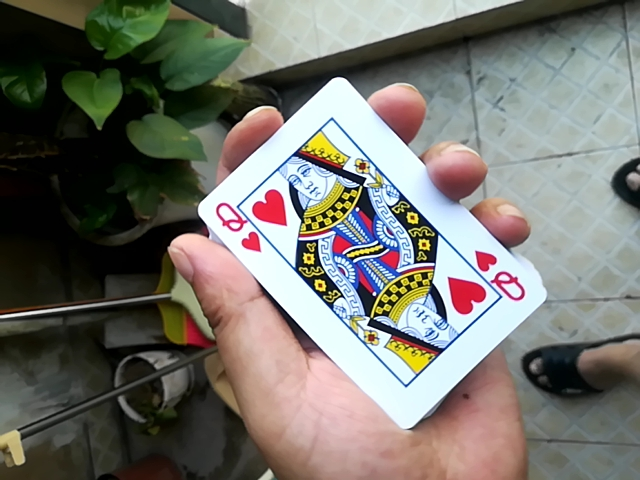hx q: (184, 72, 551, 444)
